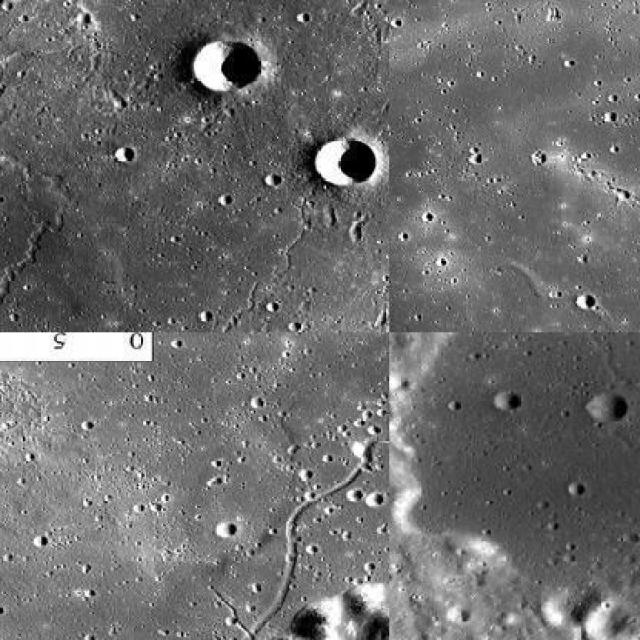rille: (30, 348, 388, 638), (0, 198, 312, 330), (389, 0, 502, 331), (275, 0, 388, 131), (0, 137, 80, 314)
